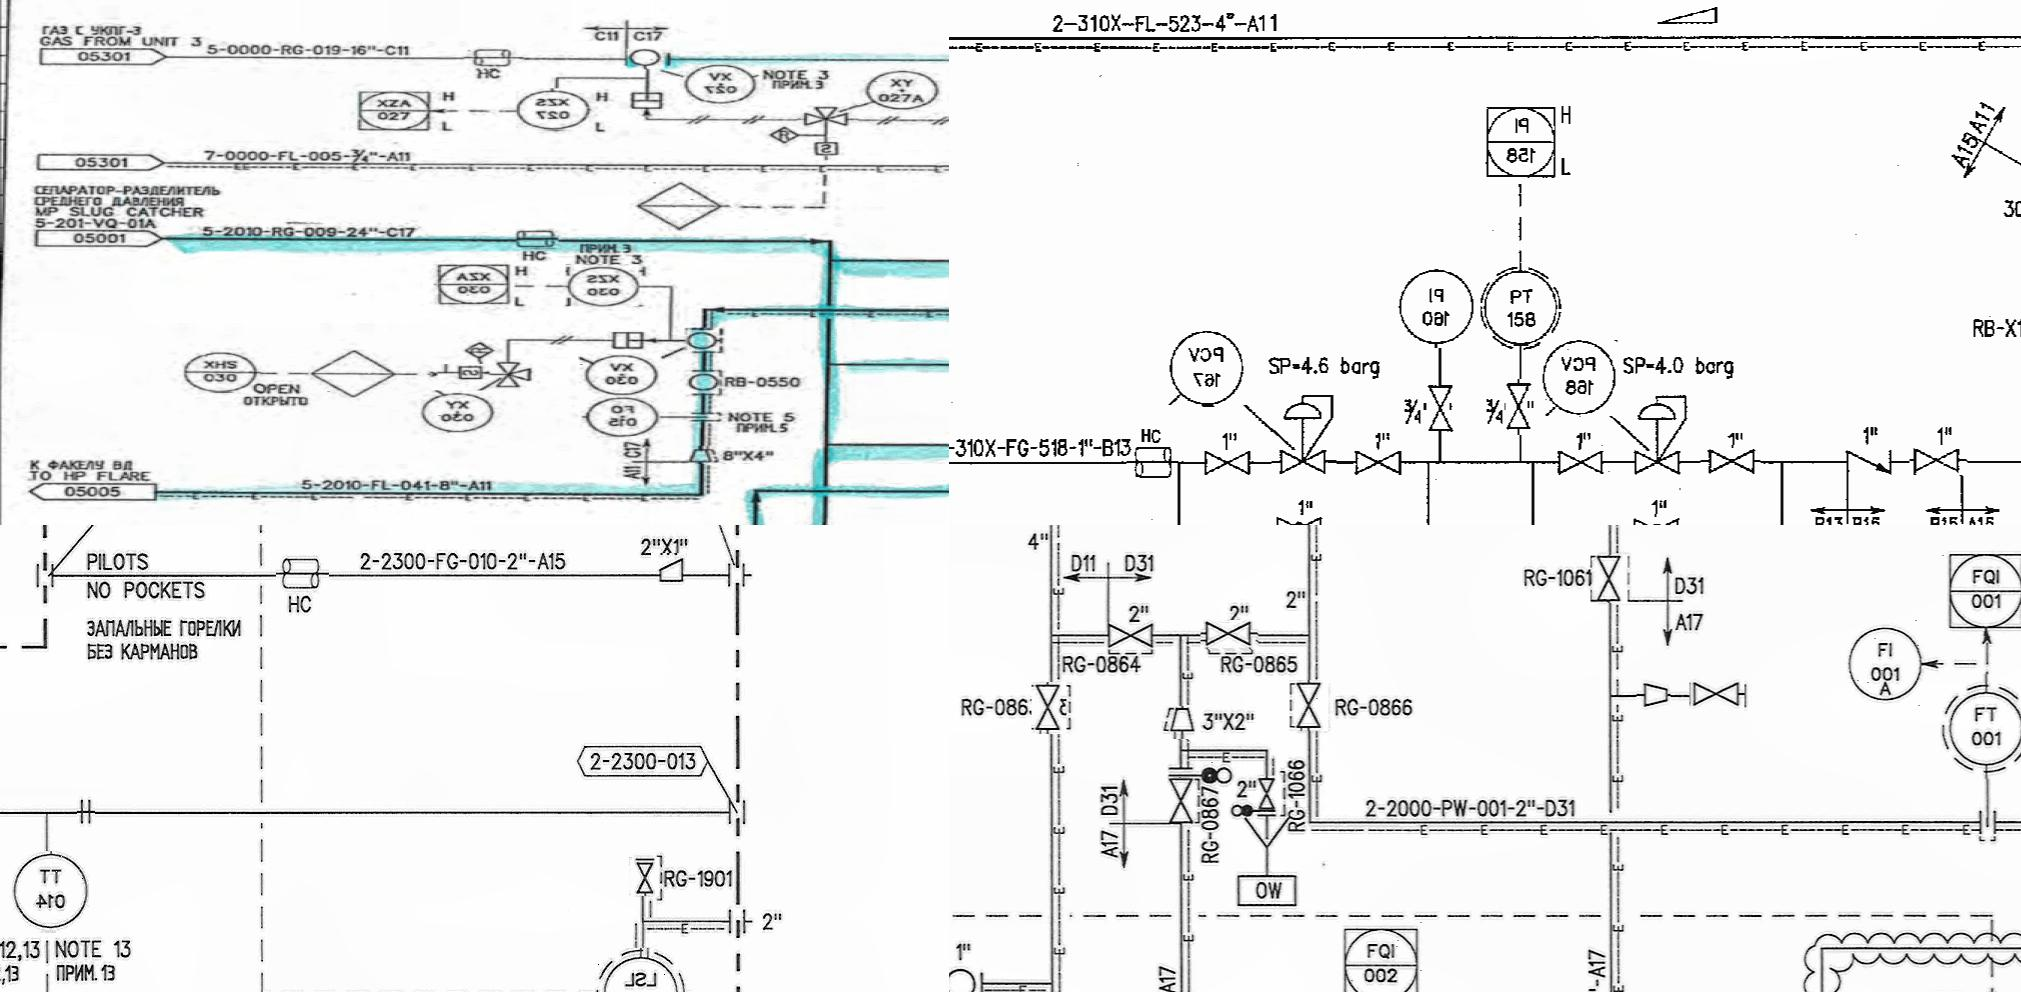3 WAY GENERAL VALVE: (491, 357, 540, 393), (797, 106, 857, 130)
CONCENTRIC REDUCER: (1163, 706, 1203, 741), (1636, 680, 1670, 711), (690, 446, 722, 464)
DCS ACCESSIBLE: (1940, 548, 2021, 636), (1482, 104, 1560, 183), (1340, 922, 1426, 992), (351, 86, 441, 133), (434, 259, 514, 309)
DUPLEX RECEPTACLE: (276, 551, 329, 594), (1127, 447, 1178, 481), (464, 48, 525, 71), (516, 229, 558, 250)
ECCENTRIC REDUCER: (652, 554, 690, 587)
END FLANGED: (724, 906, 751, 942), (79, 795, 95, 830)
FIELD INSTRUMENT: (1941, 674, 2021, 779), (1395, 267, 1480, 350), (6, 852, 92, 933), (1846, 618, 1923, 707), (1477, 268, 1565, 345), (1169, 331, 1248, 407), (1542, 341, 1619, 417), (593, 948, 691, 992), (580, 353, 664, 396), (419, 390, 496, 434), (517, 89, 593, 131), (684, 64, 760, 107), (566, 264, 639, 307), (581, 397, 659, 435), (866, 71, 938, 110), (949, 962, 983, 992), (686, 327, 722, 350), (628, 50, 666, 71), (684, 371, 720, 393)
GATE VALVE: (1349, 442, 1410, 481), (1553, 443, 1610, 481), (1701, 446, 1761, 481), (1289, 682, 1328, 733), (1161, 778, 1203, 825), (1032, 682, 1069, 734), (1105, 618, 1154, 657), (1690, 678, 1744, 712), (1197, 450, 1258, 481), (1591, 555, 1629, 603), (1909, 447, 1967, 477), (1201, 621, 1259, 651), (1505, 380, 1533, 437), (1427, 377, 1454, 433), (629, 857, 659, 895), (1254, 772, 1280, 810)
GLOBE VALVE: (1629, 514, 1685, 526), (1273, 515, 1329, 526)
HARDWIRED INTERLOCK FIELD: (762, 126, 821, 143), (461, 339, 498, 362)
HARDWIRED INTERLOCK PRIMARY.: (630, 182, 730, 231), (309, 349, 402, 399)
PANEL INSTRUMENT: (183, 352, 260, 393)
SELF ACTING VALVE: (1625, 390, 1695, 479), (1271, 390, 1337, 475)
SPECTACLE BLIND CLOSED: (1164, 758, 1233, 788), (1226, 803, 1290, 818)
SPEED FLOW METER: (436, 365, 488, 381), (811, 137, 840, 160)
TUNDISH OPEN: (1239, 816, 1299, 875)
